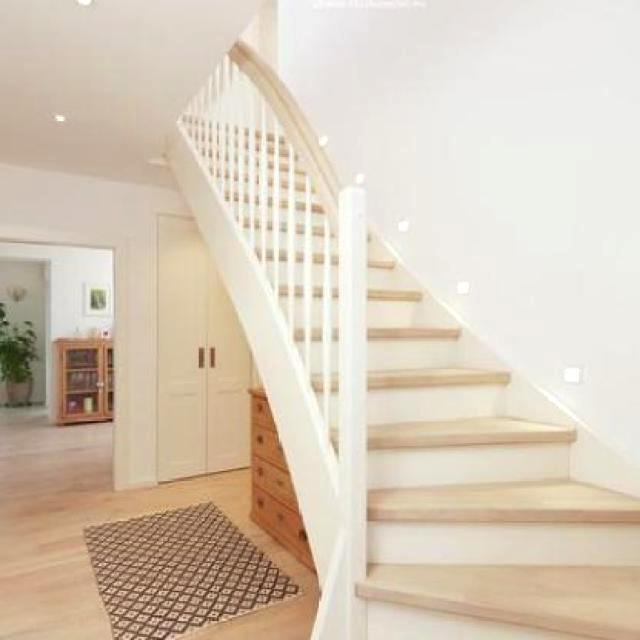stair: (134, 96, 640, 638)
